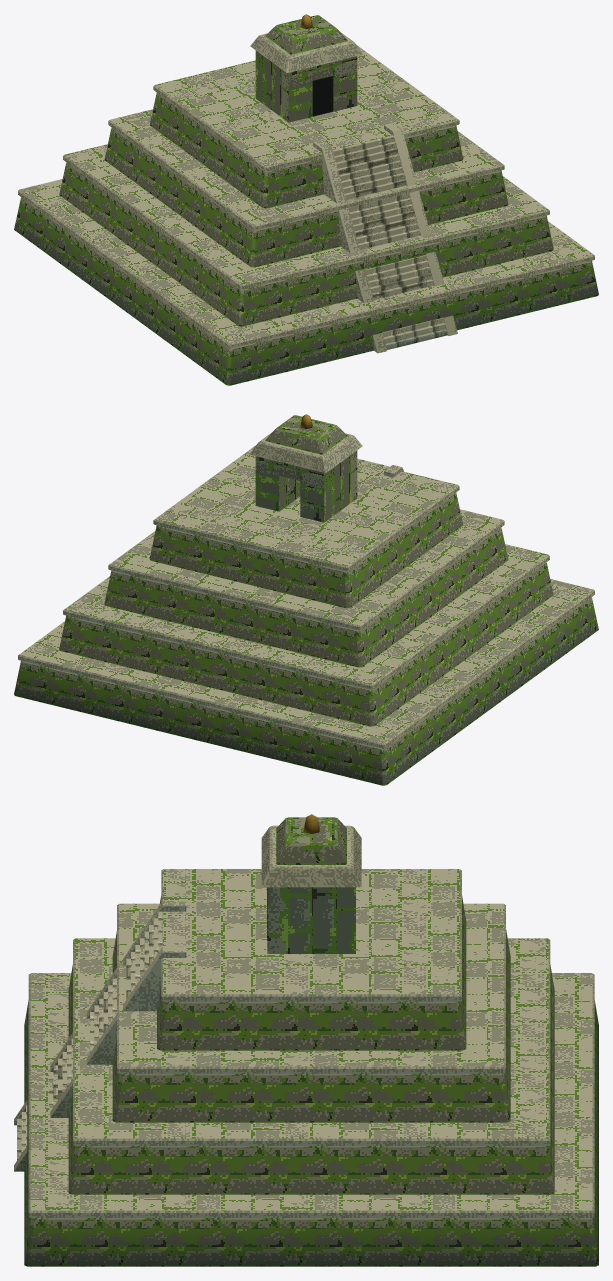
File: ruin.pyramid__great.glb
3 renders of one model, top to bottom at view 1: azimuth 30°, elevation 25°; view 2: azimuth 150°, elevation 25°; view 3: azimuth 270°, elevation 25°, orthographic. The views are drawn at different scales.
Visible parts, largest first — view 1: kit_tiers, kit_lips, kit_stairs, kit_shrine, kit_balustrades, kit_roof, kit_shrine_door; view 2: kit_tiers, kit_lips, kit_shrine, kit_roof; view 3: kit_lips, kit_tiers, kit_roof, kit_shrine, kit_balustrades, kit_stairs.
Boxes of the visible parts, bbox=[...] form: kit_tiers: bbox=[14, 93, 598, 385]; kit_lips: bbox=[18, 45, 594, 348]; kit_stairs: bbox=[332, 135, 447, 349]; kit_shrine: bbox=[255, 50, 357, 122]; kit_balustrades: bbox=[313, 122, 457, 353]; kit_roof: bbox=[250, 14, 362, 72]; kit_shrine_door: bbox=[312, 76, 333, 116]; kit_tiers: bbox=[14, 493, 598, 785]; kit_lips: bbox=[18, 445, 594, 748]; kit_shrine: bbox=[255, 450, 357, 522]; kit_roof: bbox=[250, 414, 362, 472]; kit_lips: bbox=[28, 869, 594, 1217]; kit_tiers: bbox=[24, 896, 598, 1266]; kit_roof: bbox=[261, 814, 361, 887]; kit_shrine: bbox=[267, 887, 355, 953]; kit_balustrades: bbox=[14, 900, 186, 1171]; kit_stairs: bbox=[17, 911, 162, 1160].
Bounding box in the file's own units: 19.5 × 12.44 × 19.85.
Materials: 8 (7 with a texture image).
